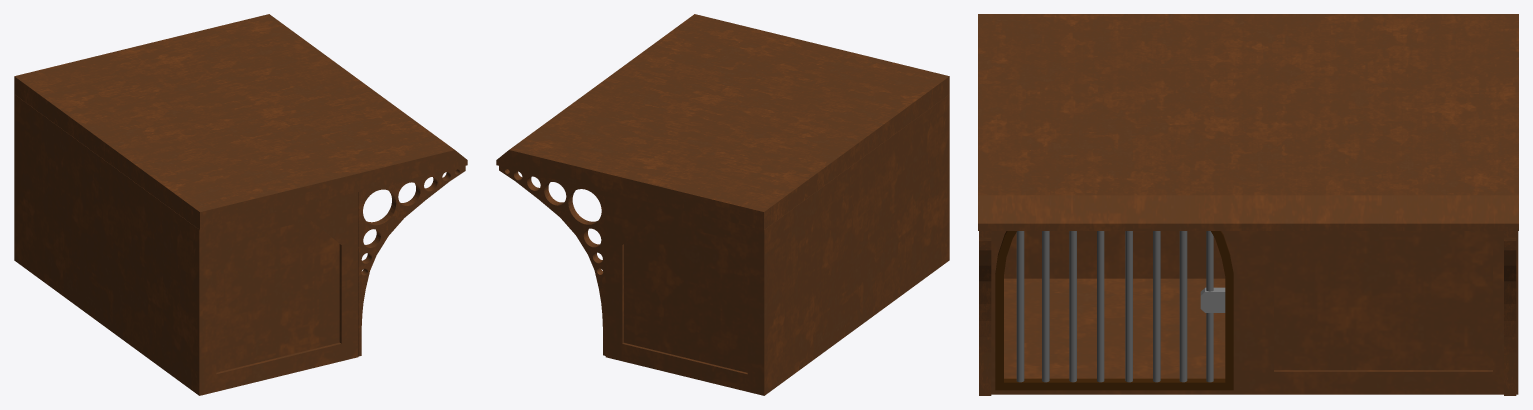
Rendered from 1 wide cage.glb.
The picture shows the model from 3 angles, left to right: view 1: azimuth 30°, elevation 25°; view 2: azimuth 150°, elevation 25°; view 3: azimuth 270°, elevation 25°; orthographic projection. The views are drawn at different scales.
Parts seen in each view (by area): view 1: Cube.088, Cube.091, Cube.073; view 2: Cube.088, Cube.091, Cube.106; view 3: Cube.091, Cube.088, Cube.090, Cube.073, Cube.106, Cylinder.146, Cylinder.152, Cylinder.147, Cylinder.148, Cylinder.149, Cylinder.150, Cylinder.151 (+2 smaller).
Boxes of the visible parts, x1,y1,x2,y2 form: Cube.088: (14,94,357,395); Cube.091: (14,14,467,230); Cube.073: (358,166,465,356); Cube.088: (605,94,949,395); Cube.091: (496,14,949,230); Cube.106: (499,166,605,355); Cube.091: (978,14,1518,230); Cube.088: (991,231,1518,394); Cube.090: (995,231,1233,390); Cube.073: (979,231,991,395); Cube.106: (1504,231,1516,395); Cylinder.146: (1179,231,1187,382); Cylinder.152: (1016,231,1024,382); Cylinder.147: (1153,231,1160,382); Cylinder.148: (1125,231,1132,382); Cylinder.149: (1097,231,1104,382); Cylinder.150: (1069,231,1076,382); Cylinder.151: (1042,231,1049,382).
Bounding box in the file's own units: 10.74 × 7.05 × 12.9.
4 materials, 4 textured.
